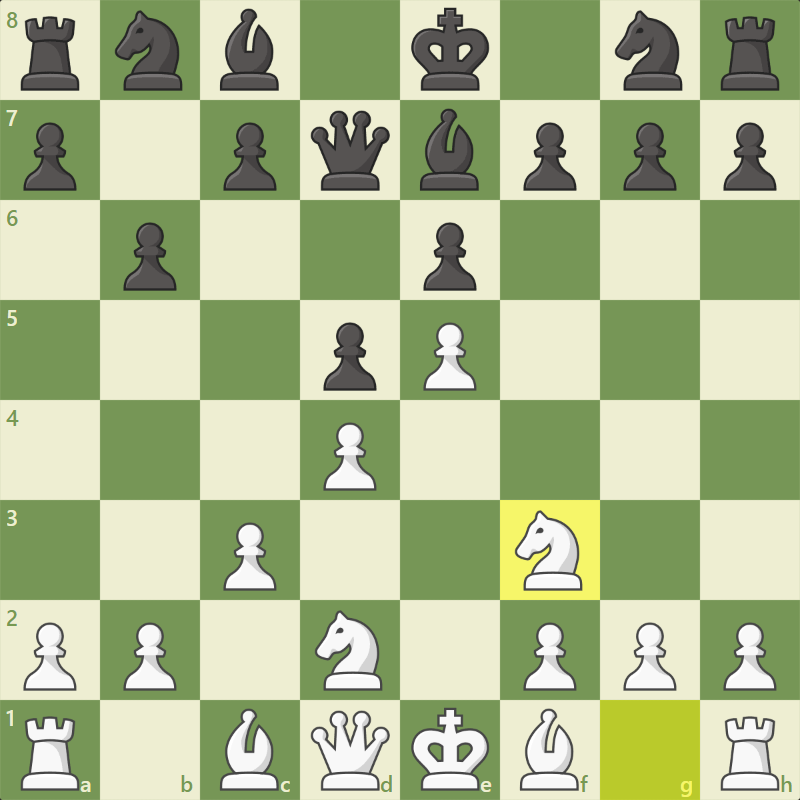B: (217, 707, 280, 794), (517, 707, 580, 793)
K: (408, 706, 491, 793)
N: (312, 607, 386, 693), (513, 509, 585, 594)
P: (21, 620, 78, 694), (121, 620, 178, 694), (522, 619, 579, 693), (621, 620, 678, 694), (722, 619, 779, 693), (322, 418, 379, 492), (221, 520, 278, 594), (422, 320, 479, 394)
Q: (308, 707, 392, 793)
R: (17, 712, 80, 795), (719, 714, 781, 795)
b: (416, 105, 481, 193), (218, 6, 280, 94)
k: (408, 6, 492, 93)
n: (113, 9, 185, 94), (613, 8, 685, 93)
p: (21, 120, 79, 192), (120, 222, 178, 294), (220, 121, 278, 193), (420, 221, 478, 293), (320, 321, 378, 393), (520, 121, 578, 193), (620, 121, 678, 193), (720, 122, 778, 194)
q: (308, 108, 392, 193)
r: (716, 14, 782, 94), (18, 13, 81, 94)
